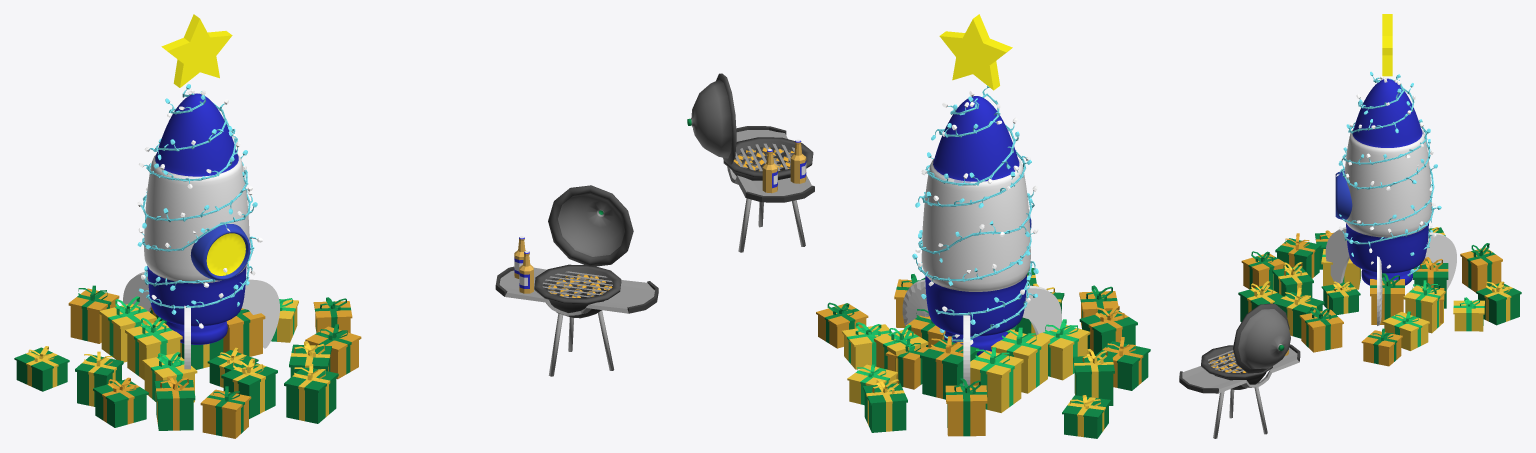
The model's file is xmas-Tree.gltf.
The picture shows the model from 3 angles, left to right: view 1: azimuth 30°, elevation 25°; view 2: azimuth 150°, elevation 25°; view 3: azimuth 270°, elevation 25°; orthographic projection. The views are drawn at different scales.
Visible parts, largest first — view 1: GIFTPLAN, SPACESHIP, Sphere.002, onametaplacingnode, BezierCurve.003, Cylinder.005, grilwig, Star, giftbox2, giftbox2.001, giftbox1.001, giftbox1; view 2: SPACESHIP, GIFTPLAN, Sphere.002, onametaplacingnode, BezierCurve.003, Star, giftbox2.001, giftbox1.002, grilwig, giftbox2, giftbox1.003, giftbox1.001 (+2 smaller); view 3: GIFTPLAN, SPACESHIP, Sphere.002, onametaplacingnode, BezierCurve.003, grilwig, giftbox1.001, giftbox1.002, Star, Cylinder.005.
Part boxes in pixels (x1,y1,x2,y2): GIFTPLAN: (14,285,361,438); SPACESHIP: (144,93,249,344); Sphere.002: (534,185,633,376); onametaplacingnode: (137,84,262,328); BezierCurve.003: (123,271,279,369); Cylinder.005: (190,224,250,280); grilwig: (495,266,658,315); Star: (161,14,232,87); giftbox2: (125,317,182,380); giftbox2.001: (99,296,156,362); giftbox1.001: (223,308,265,356); giftbox1: (180,338,223,369); SPACESHIP: (921,96,1030,355); GIFTPLAN: (816,268,1150,438); Sphere.002: (687,73,813,252); onametaplacingnode: (912,85,1038,345); BezierCurve.003: (902,279,1061,385); Star: (939,14,1012,90); giftbox2.001: (970,347,1023,412); giftbox1.002: (920,336,979,399); grilwig: (727,126,814,202); giftbox2: (991,327,1050,393); giftbox1.003: (885,338,929,389); giftbox1.001: (905,309,945,347); GIFTPLAN: (1238,227,1521,366); SPACESHIP: (1344,78,1431,285); Sphere.002: (1201,303,1290,438); onametaplacingnode: (1336,71,1441,276); BezierCurve.003: (1325,227,1456,325); grilwig: (1179,344,1300,393); giftbox1.001: (1370,273,1404,324); giftbox1.002: (1413,257,1448,308); Star: (1382,14,1392,76); Cylinder.005: (1335,170,1352,219).
Bounding box in the file's own units: 30.01 × 20.26 × 21.17.
Materials: 2 (2 with a texture image).
